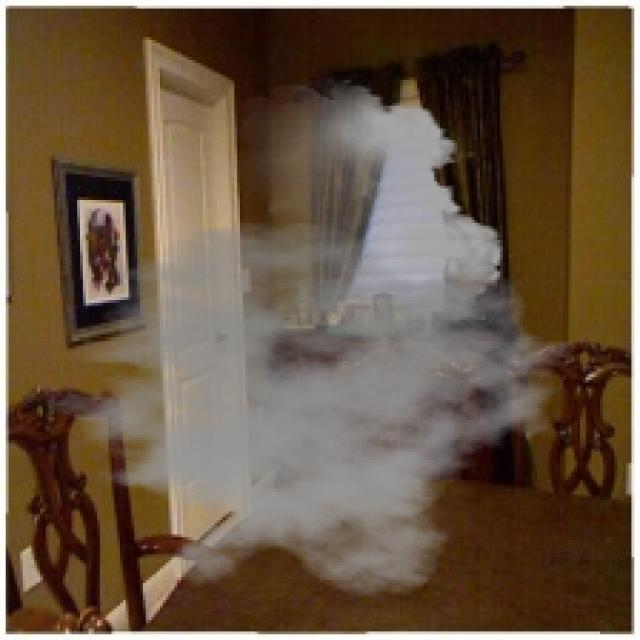smoke: (17, 77, 574, 600)
